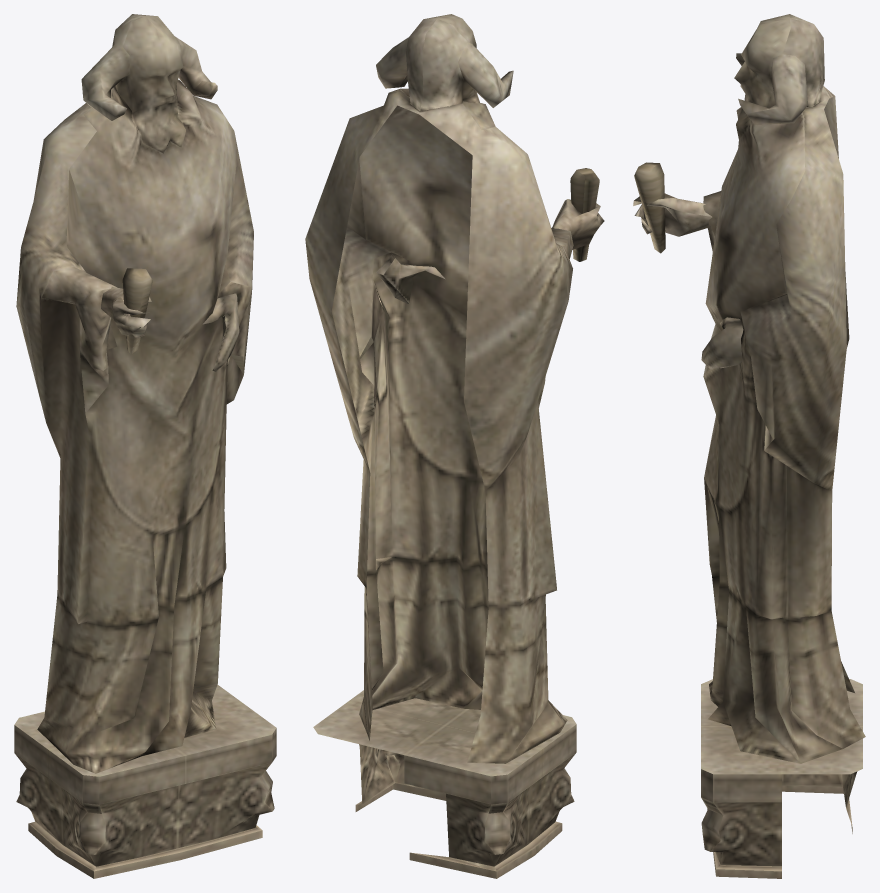
Rendered from SM_Plains_Man_Statue_01_torch.FBX.
3 views of the same model, side by side, from view 1: azimuth 30°, elevation 25°; view 2: azimuth 150°, elevation 25°; view 3: azimuth 270°, elevation 25° (orthographic).
Visible parts, largest first — view 1: SM_Plains_Man_Statue_01_torch; view 2: SM_Plains_Man_Statue_01_torch; view 3: SM_Plains_Man_Statue_01_torch.
Boxes of the visible parts, box(x1,y1,x2,y2) form: SM_Plains_Man_Statue_01_torch: box(14, 14, 276, 878); SM_Plains_Man_Statue_01_torch: box(305, 14, 604, 878); SM_Plains_Man_Statue_01_torch: box(633, 14, 865, 878).
Size of the model in its own units: 48.65 by 159 by 41.02.
